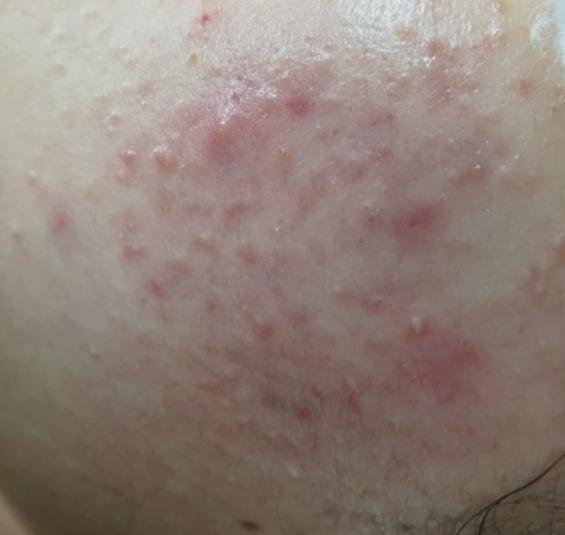blackhead: (366, 287, 397, 325)
papular: (201, 97, 256, 180), (105, 203, 153, 259), (395, 200, 441, 249), (186, 227, 229, 259), (43, 204, 81, 239), (138, 266, 178, 298)
purulent: (409, 300, 449, 345)
sebo-crystan-conglo: (155, 132, 183, 175)
whitehead: (169, 33, 233, 81), (509, 266, 553, 311), (43, 38, 75, 96), (112, 138, 146, 191), (379, 66, 418, 106), (330, 416, 362, 462), (19, 162, 52, 203), (94, 101, 126, 143), (258, 216, 297, 249), (278, 458, 312, 493), (315, 85, 345, 122), (480, 29, 505, 52)
